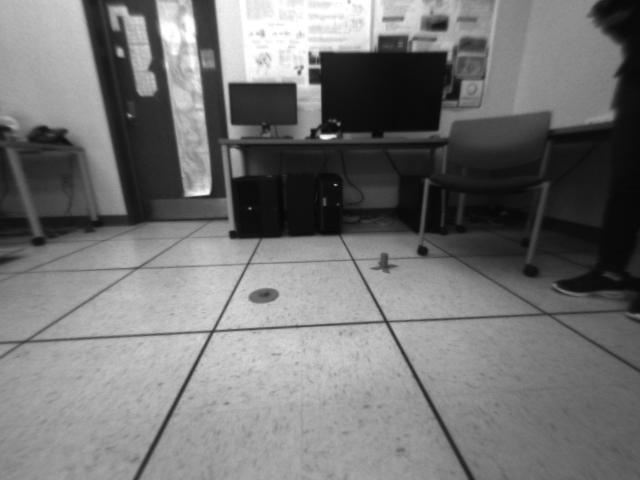X: (369, 252, 399, 275)
